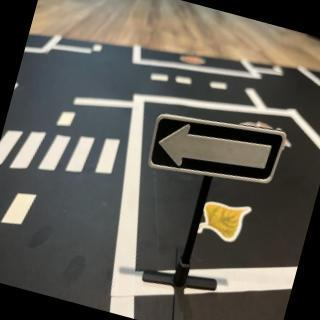road_crosswalk: (1, 104, 124, 199)
sign_oneway_left: (145, 97, 289, 201)
